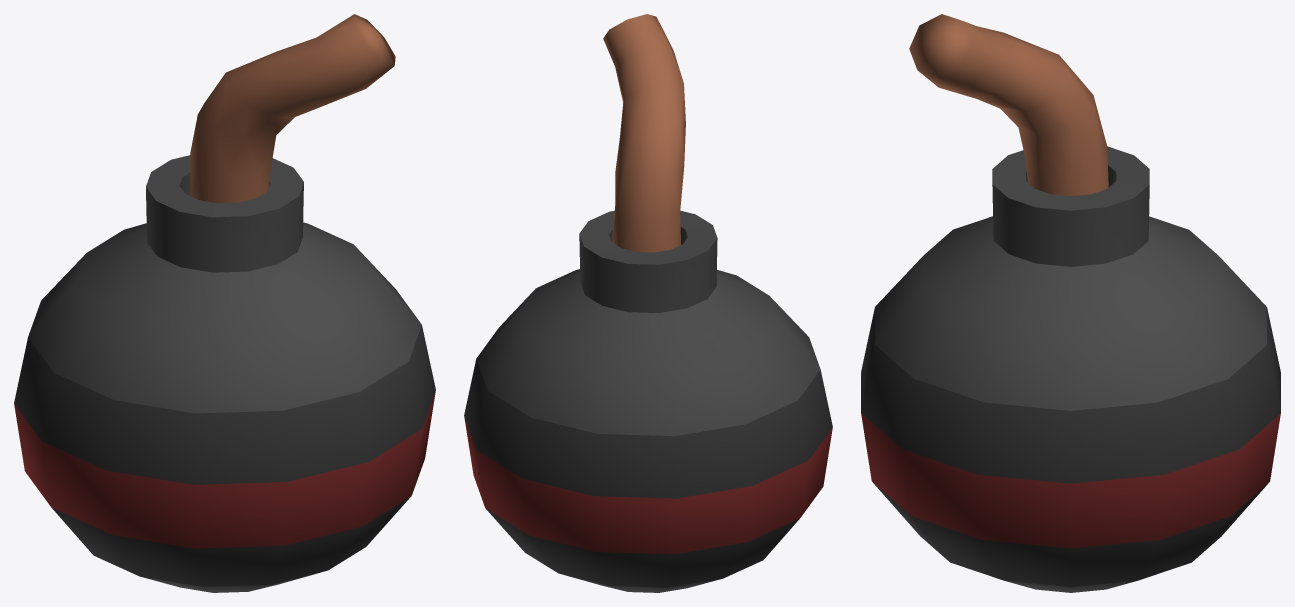
File: bomb 1.fbx
The picture shows the model from 3 angles, left to right: view 1: azimuth 30°, elevation 25°; view 2: azimuth 150°, elevation 25°; view 3: azimuth 270°, elevation 25°; orthographic projection. The views are drawn at different scales.
Visible parts, largest first — view 1: bomb; view 2: bomb; view 3: bomb.
Part boxes in pixels (left/top/right/bottom): bomb: left=14, top=14, right=435, bottom=592; bomb: left=464, top=14, right=832, bottom=592; bomb: left=861, top=14, right=1280, bottom=592.
Bounding box in the file's own units: 10.78 × 16.27 × 10.51.
